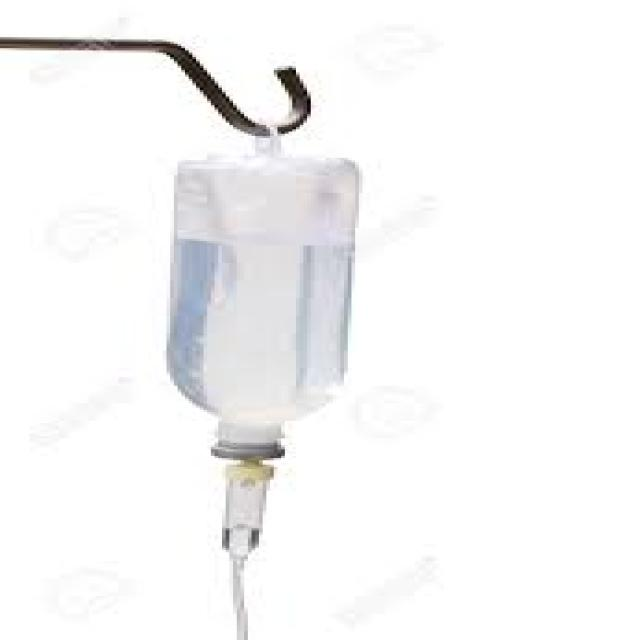B3: (161, 161, 375, 444)
